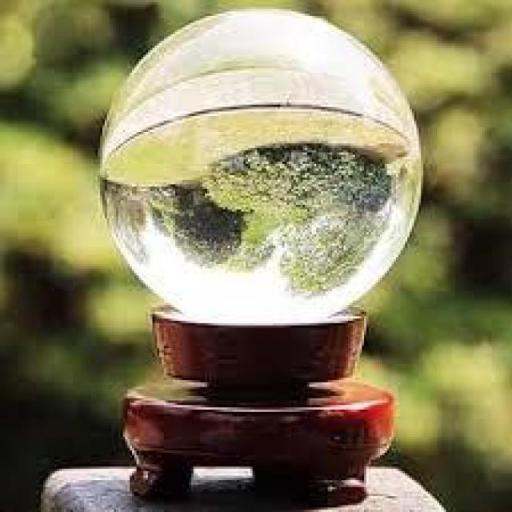glass: (88, 0, 432, 334)
